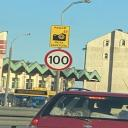speed_limit_100: (44, 48, 74, 72)
